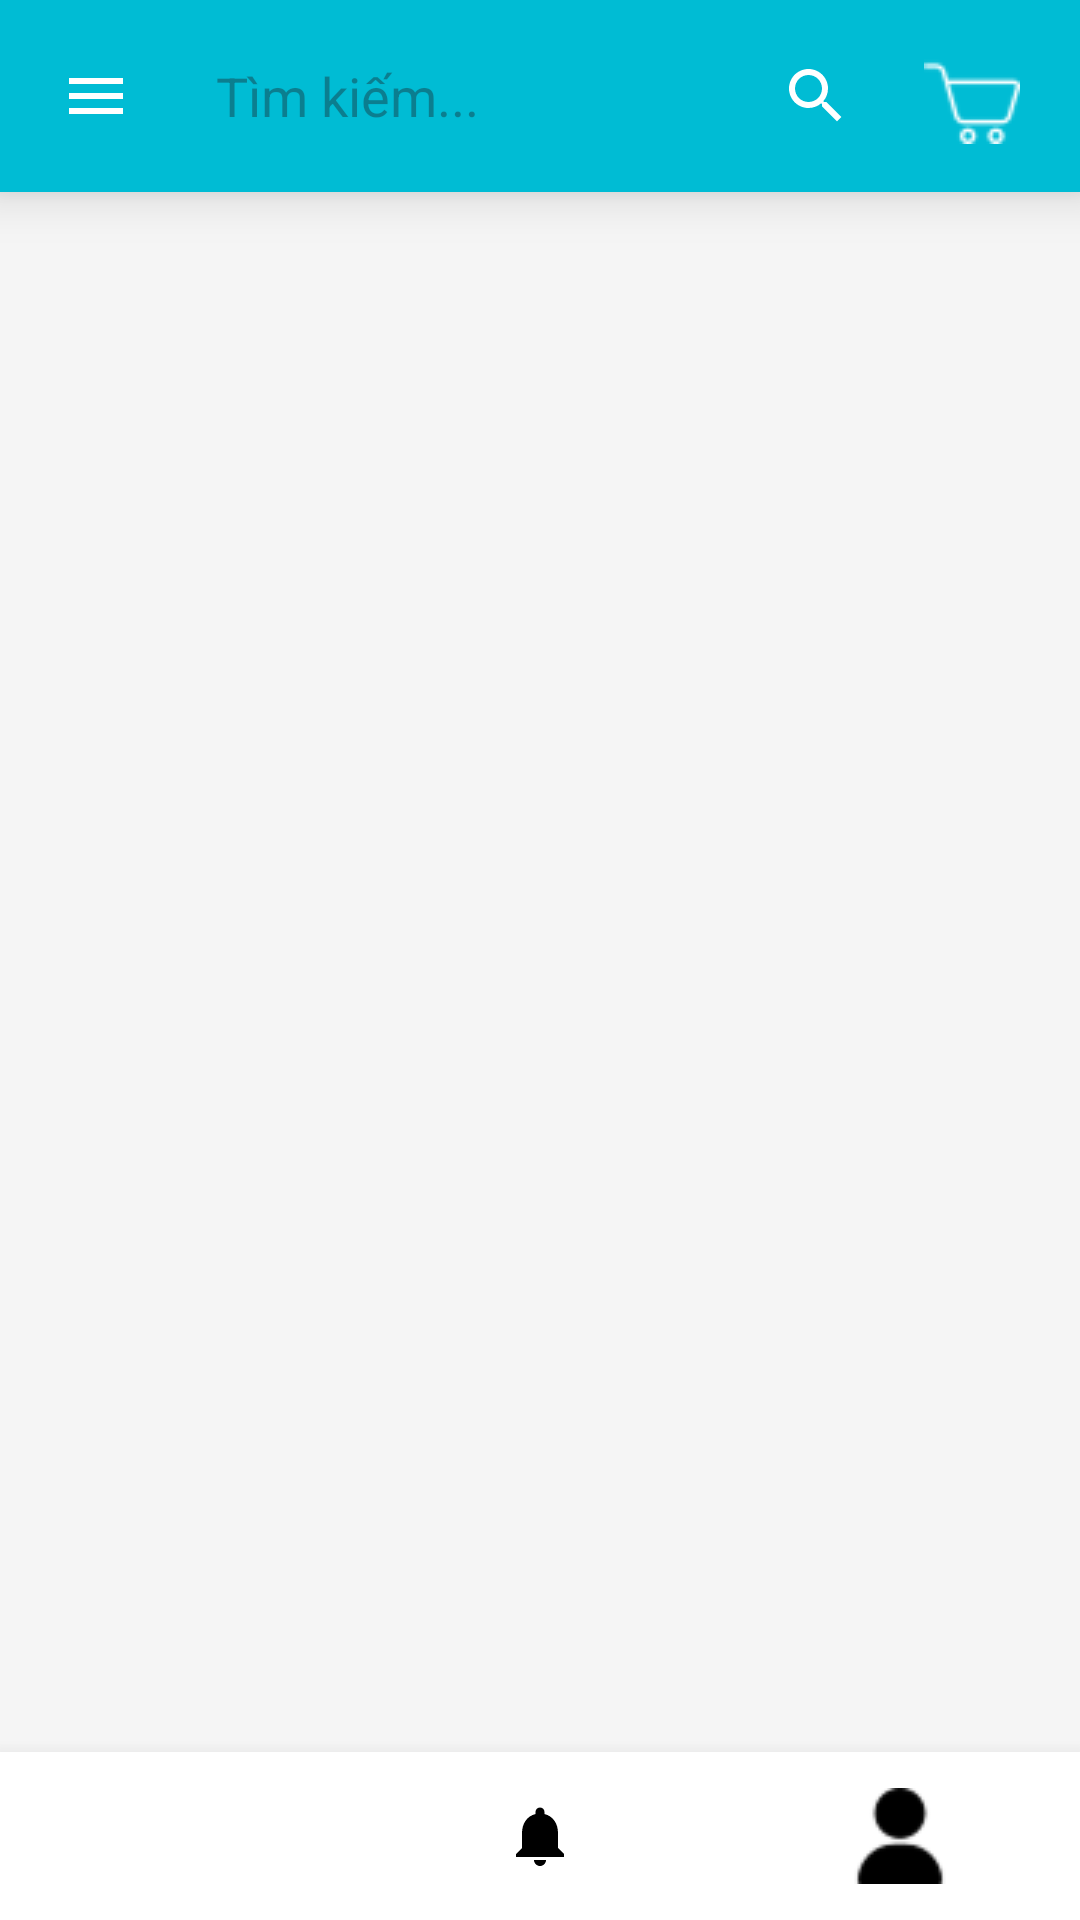

Named icons in this screenshot (1080px×1920px) and their bounding boxes, (x1, y1, x2, y2):
cart: (924, 62, 1020, 144)
menu: (69, 78, 123, 114)
notifications: (516, 1807, 564, 1866)
person: (857, 1788, 943, 1884)
search: (789, 69, 841, 121)
